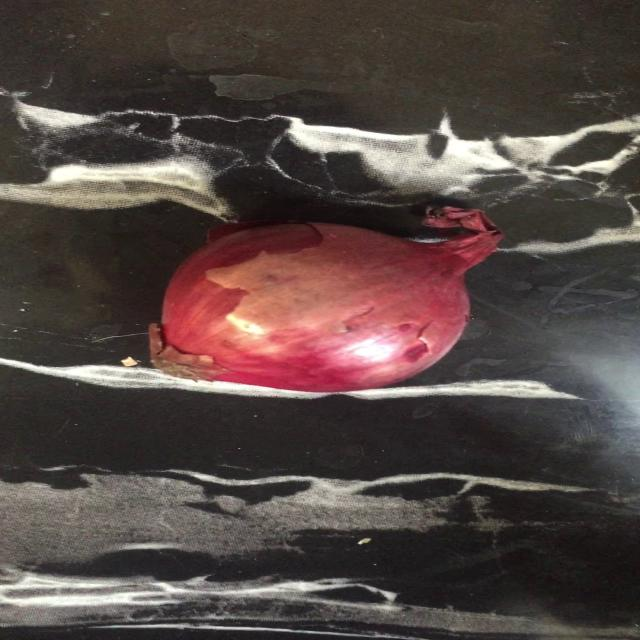Onion: (149, 206, 503, 392)
